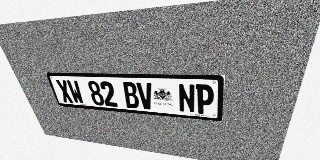2: (99, 81, 118, 107)
8: (86, 81, 105, 106)
B: (121, 82, 140, 109)
N: (178, 84, 195, 113)
P: (196, 84, 214, 115)
V: (136, 82, 154, 110)
W: (66, 80, 85, 104)
X: (55, 80, 74, 103)
